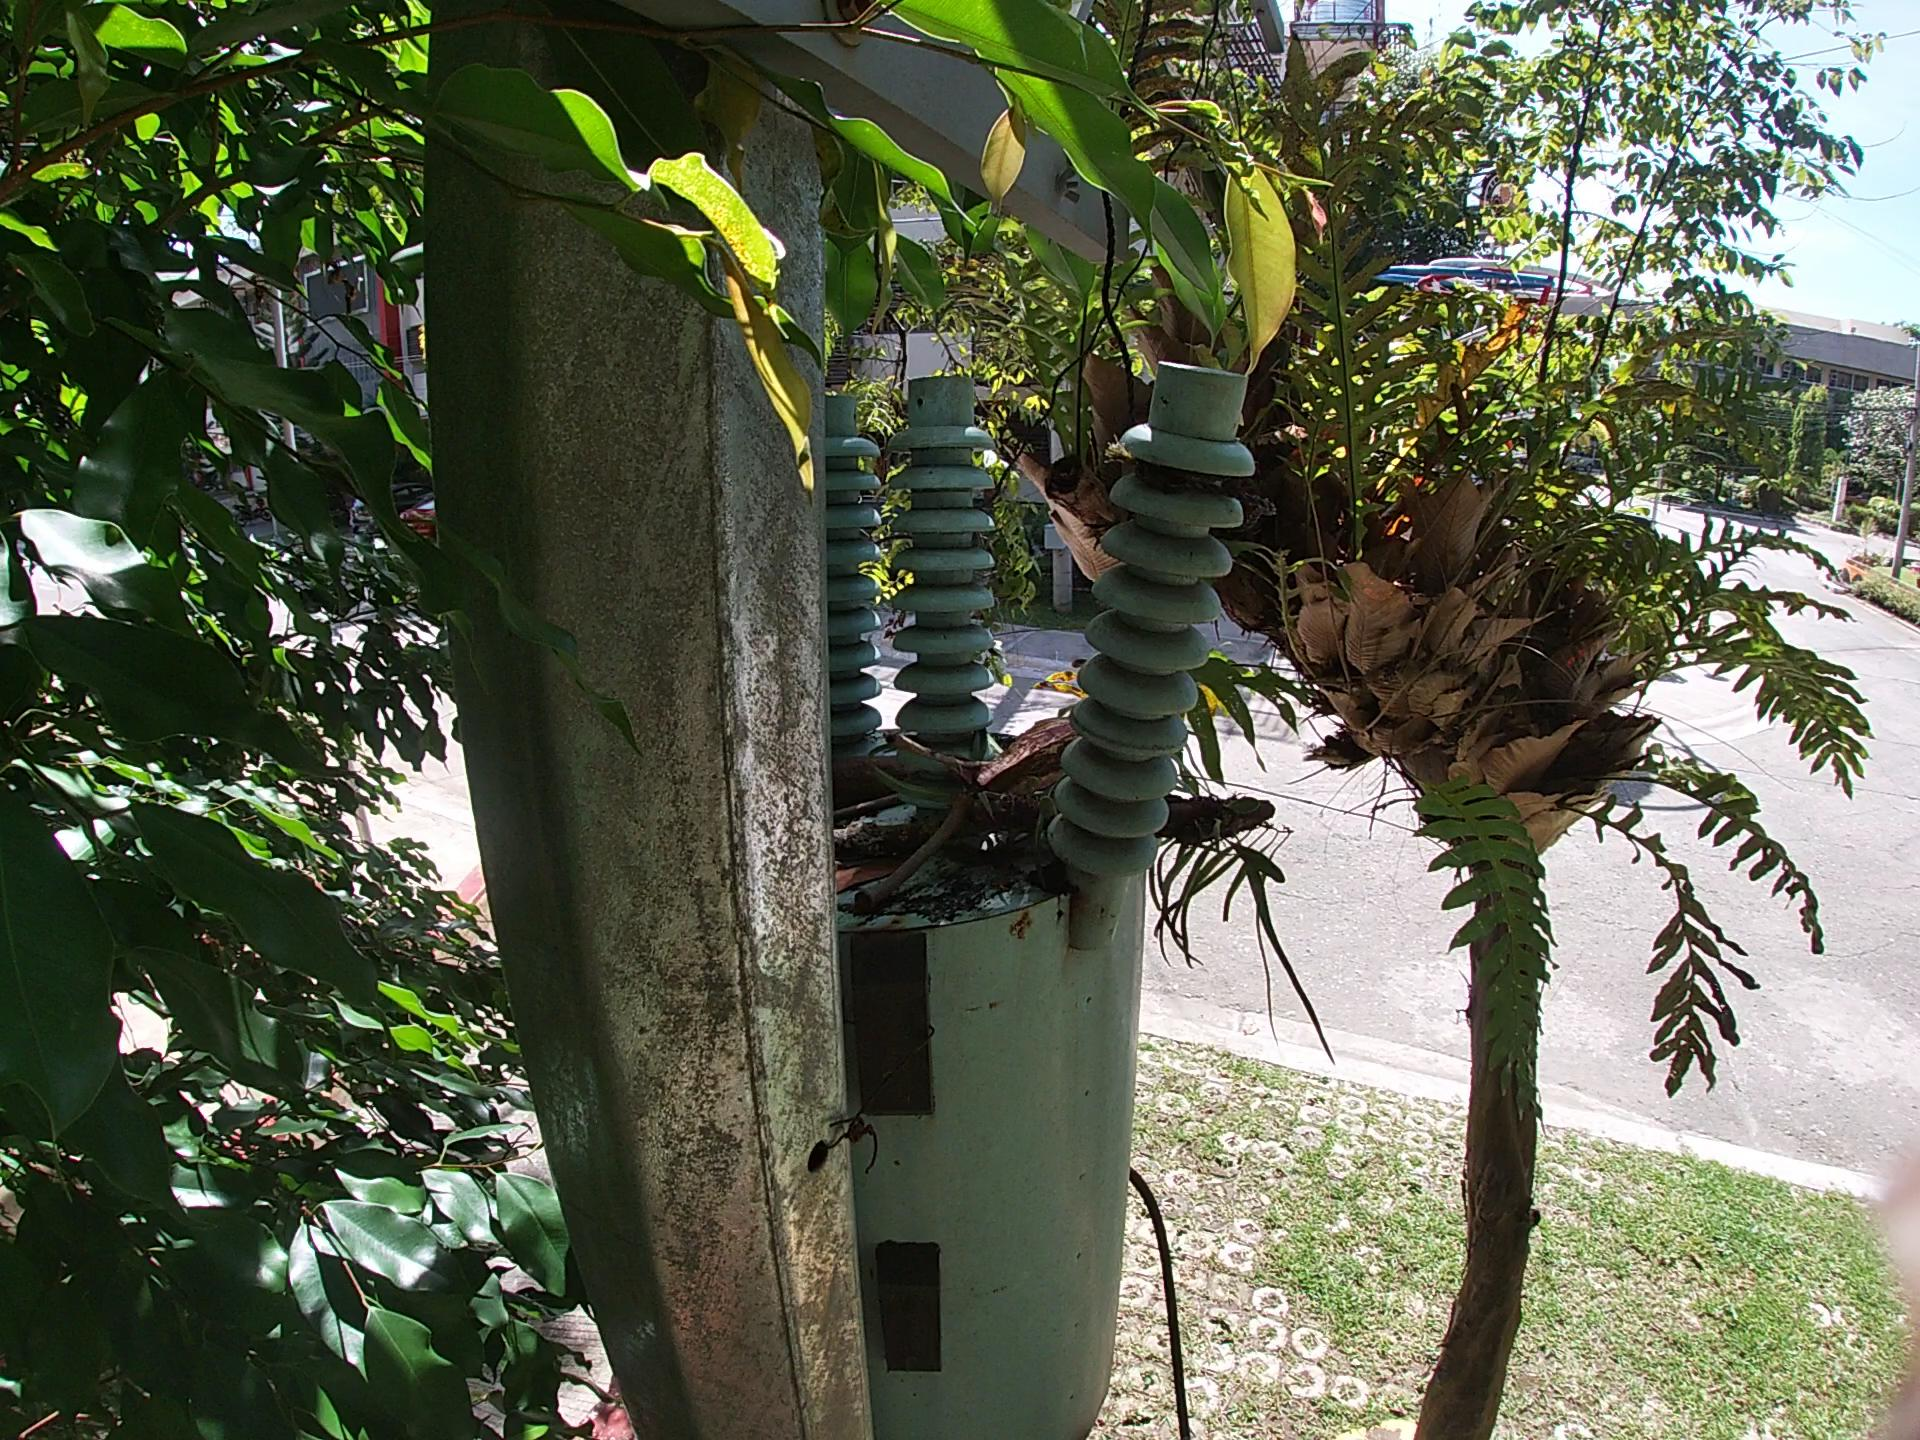branch with leaves: (838, 782, 1302, 861)
leaf: (825, 817, 915, 957)
mahogany fruit: (850, 702, 1030, 826)
tree branch: (853, 711, 1445, 864), (865, 773, 989, 897)
